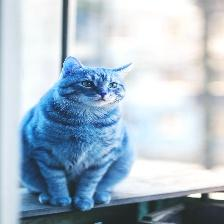kedo: (22, 56, 132, 210)
